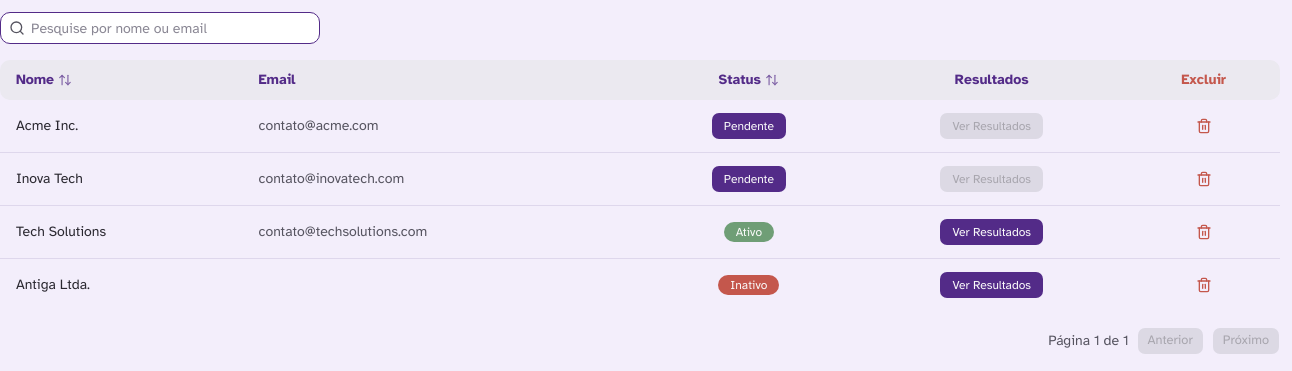
Scenario: CompanyTable › mostra a inativa com o selo "Inativo", e a sem e-mail sem quebrar
This screenshot has width=1292, height=371.
A busca por e-mail não quebra na organização sem e-mail.
Type "acme" into the search field named "Pesquisar empresas por nome ou email" at (172, 28), box x1=25 y1=13 x2=319 y2=43
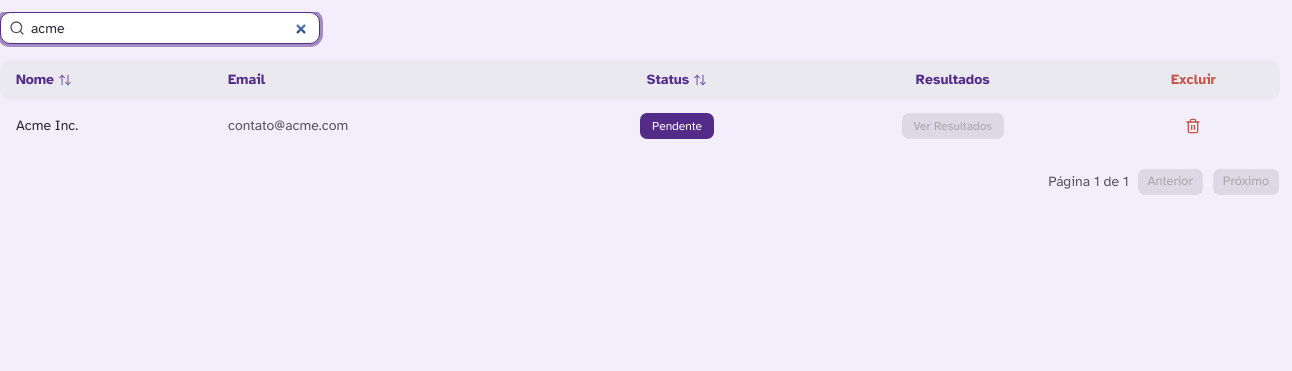
Now the text "Antiga Ltda." is gone
